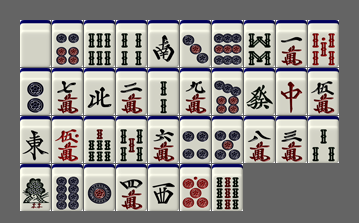0m: (52, 116, 83, 163)
0p: (180, 164, 211, 211)
0s: (308, 20, 339, 67)
1m: (276, 20, 307, 67)
1p: (84, 164, 115, 211)
1s: (20, 164, 51, 211)
1z: (20, 116, 51, 163)
2m: (116, 68, 147, 115)
2p: (20, 68, 51, 115)
2s: (148, 68, 179, 115)
2z: (148, 20, 179, 67)
3m: (276, 116, 307, 163)
3p: (180, 20, 211, 67)
3s: (308, 116, 339, 163)
3z: (148, 164, 179, 211)
4m: (116, 164, 147, 211)
4p: (180, 116, 211, 163)
4s: (116, 20, 147, 67)
4z: (84, 68, 115, 115)
5m: (308, 68, 339, 115)
5p: (212, 116, 243, 163)
5s: (116, 116, 147, 163)
5z: (20, 20, 51, 67)
6m: (148, 116, 179, 163)
6p: (52, 20, 83, 67)
6s: (84, 20, 115, 67)
6z: (244, 68, 275, 115)
7m: (52, 68, 83, 115)
7p: (212, 68, 243, 115)
7s: (84, 116, 115, 163)
7z: (276, 68, 307, 115)
8m: (244, 116, 275, 163)
8p: (52, 164, 83, 211)
8s: (244, 20, 275, 67)
9m: (180, 68, 211, 115)
9p: (212, 20, 243, 67)
9s: (212, 164, 243, 211)
